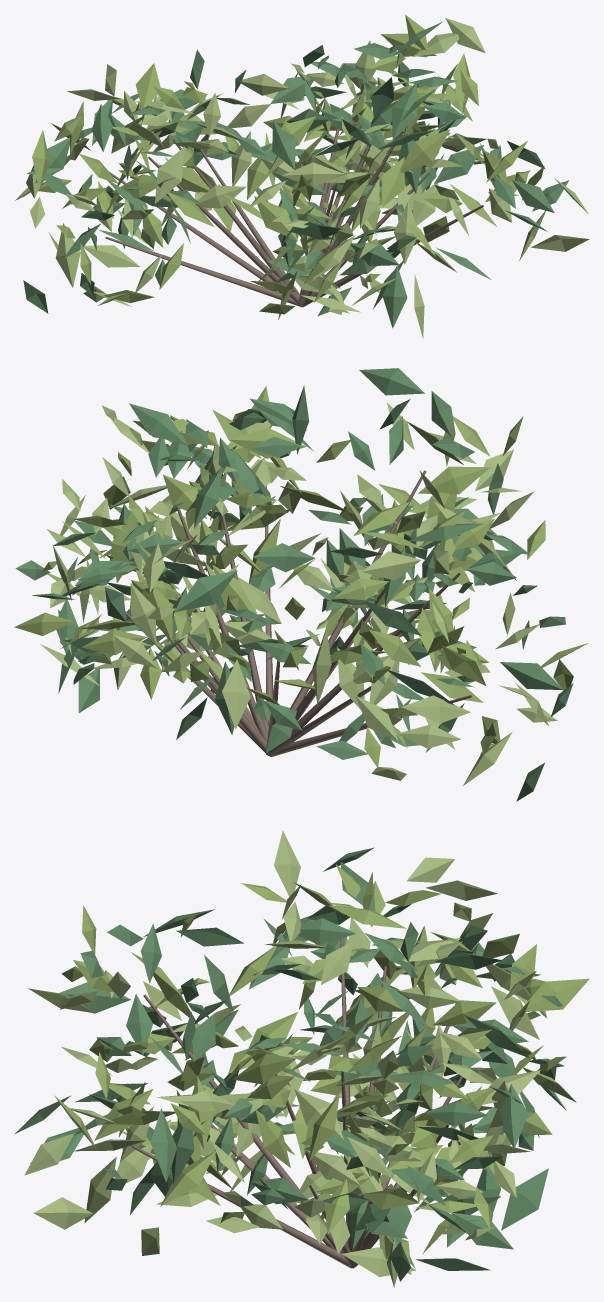
Rendered from sakura_shrub_0.glb.
3 renders of one model, top to bottom at view 1: azimuth 30°, elevation 25°; view 2: azimuth 150°, elevation 25°; view 3: azimuth 270°, elevation 25°, orthographic. The views are drawn at different scales.
Parts seen in each view (by area): view 1: sakura_shrub_0_SakuraLeafDark, sakura_shrub_0_SakuraLeafSage, sakura_shrub_0_SakuraLeafOlive, sakura_shrub_0_SakuraBark; view 2: sakura_shrub_0_SakuraLeafDark, sakura_shrub_0_SakuraLeafOlive, sakura_shrub_0_SakuraLeafSage, sakura_shrub_0_SakuraBark; view 3: sakura_shrub_0_SakuraLeafDark, sakura_shrub_0_SakuraLeafSage, sakura_shrub_0_SakuraLeafOlive, sakura_shrub_0_SakuraBark.
Part boxes in pixels (x1,y1,x2,y2): sakura_shrub_0_SakuraLeafDark: (23,21,569,328); sakura_shrub_0_SakuraLeafSage: (15,18,589,338); sakura_shrub_0_SakuraLeafOlive: (32,15,544,314); sakura_shrub_0_SakuraBark: (105,86,483,307); sakura_shrub_0_SakuraLeafDark: (15,368,573,801); sakura_shrub_0_SakuraLeafOlive: (14,386,588,767); sakura_shrub_0_SakuraLeafSage: (40,403,557,785); sakura_shrub_0_SakuraBark: (125,470,471,756); sakura_shrub_0_SakuraLeafDark: (14,847,566,1281); sakura_shrub_0_SakuraLeafSage: (24,830,576,1287); sakura_shrub_0_SakuraLeafOlive: (54,864,589,1264); sakura_shrub_0_SakuraBark: (130,938,463,1268).
Size of the model in its own units: 1.76 by 1.01 by 1.59.
